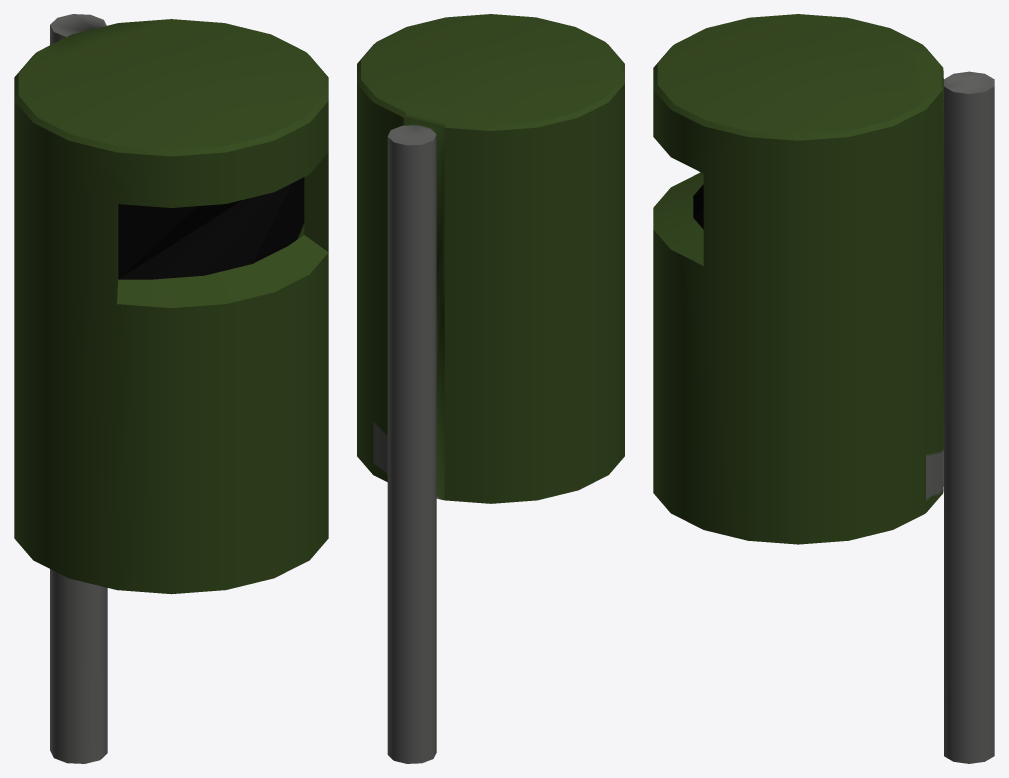
The model's file is Roskis.FBX.
3 views of the same model, side by side, from view 1: azimuth 30°, elevation 25°; view 2: azimuth 150°, elevation 25°; view 3: azimuth 270°, elevation 25° (orthographic). The views are drawn at different scales.
Parts seen in each view (by area): view 1: Trash; view 2: Trash; view 3: Trash.
Part boxes in pixels (box(x1,y1,x2,y2)): Trash: box(14, 14, 328, 763); Trash: box(357, 14, 624, 763); Trash: box(653, 14, 994, 763).
Size of the model in its own units: 70 by 180 by 81.12.
